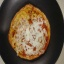pizza: (9, 5, 51, 56)
